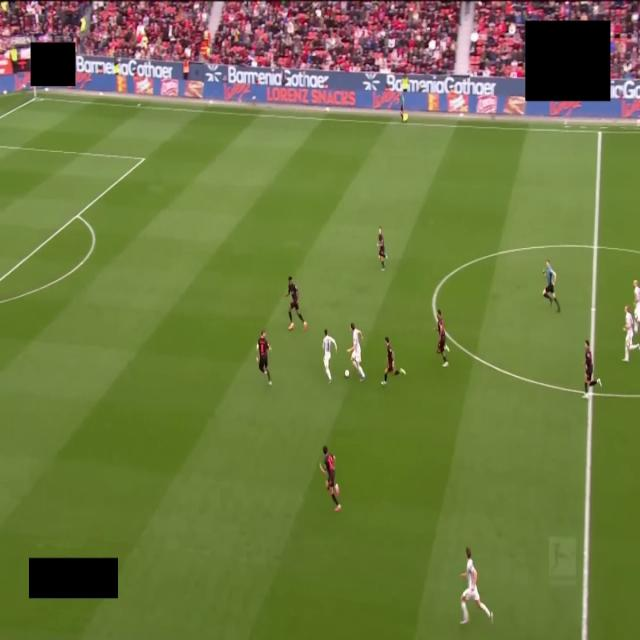ball: (345, 370, 349, 378)
player: (461, 547, 492, 624), (321, 446, 340, 511), (285, 277, 307, 330), (382, 337, 405, 385), (347, 323, 365, 381), (584, 341, 601, 399), (623, 306, 639, 361), (257, 330, 271, 385), (323, 329, 337, 383), (437, 310, 449, 367), (378, 227, 386, 270), (634, 280, 639, 333)
referee: (543, 260, 560, 311)
